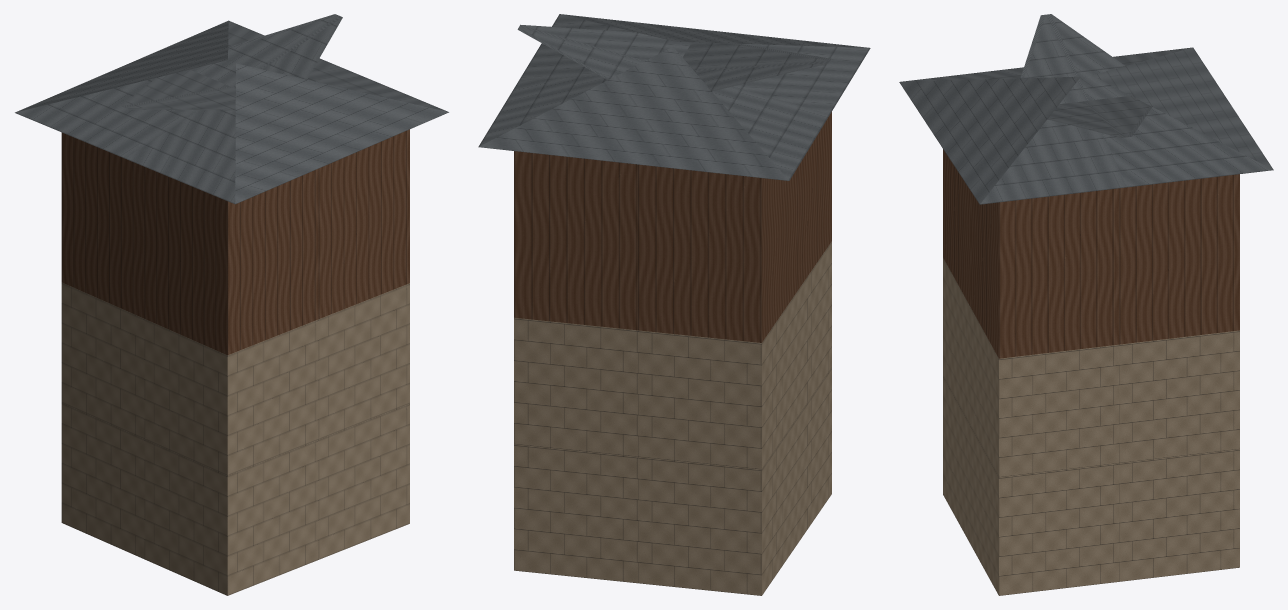
The model's file is bld_c-23_-23_813.gltf.
3 renders of one model, left to right at view 1: azimuth 30°, elevation 25°; view 2: azimuth 150°, elevation 25°; view 3: azimuth 270°, elevation 25°, orthographic. The views are drawn at different scales.
Parts seen in each view (by area): view 1: bld_c-23_-23_813; view 2: bld_c-23_-23_813; view 3: bld_c-23_-23_813.
Boxes of the visible parts, left/top/right/bottom form: bld_c-23_-23_813: left=15, top=14, right=448, bottom=595; bld_c-23_-23_813: left=478, top=14, right=870, bottom=595; bld_c-23_-23_813: left=899, top=14, right=1273, bottom=595.
Bounding box in the file's own units: 6.74 × 9.1 × 6.78.
Materials: 3 (3 with a texture image).
